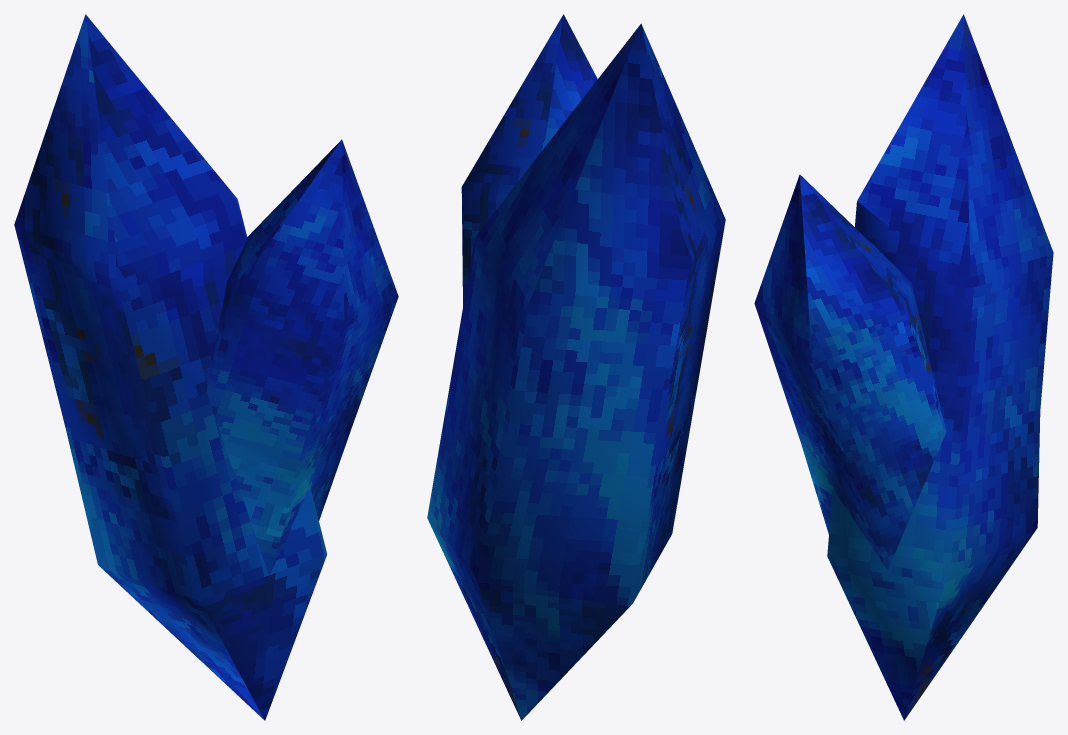
File: OUBLIETTECRYSTAL2.fbx
3 views of the same model, side by side, from view 1: azimuth 30°, elevation 25°; view 2: azimuth 150°, elevation 25°; view 3: azimuth 270°, elevation 25° (orthographic). The views are drawn at different scales.
Parts seen in each view (by area): view 1: OUBLIETTECRYSTAL2; view 2: OUBLIETTECRYSTAL2; view 3: OUBLIETTECRYSTAL2.
Part boxes in pixels (x1,y1,x2,y2): OUBLIETTECRYSTAL2: (14,14,398,720); OUBLIETTECRYSTAL2: (427,14,725,720); OUBLIETTECRYSTAL2: (754,14,1053,720).
Size of the model in its own units: 2627 by 6295 by 2654.
Materials: 1 (1 with a texture image).
